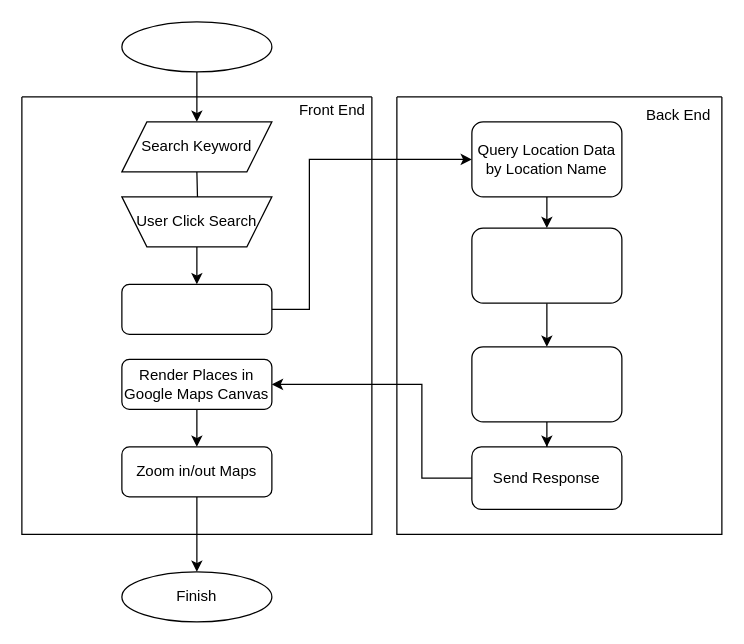
Some shapes in this 744 by 644 pixel diagram are drawn without their labels. The box of each missing label's shape, as (x1, y1, x2, y2) in pixels:
Calculate All Distances of Places with User Distance: (471, 227, 622, 303)
Filter Places with Distance < 500 KM: (471, 346, 622, 422)
Send Request: (121, 283, 272, 334)
Start: (121, 21, 272, 72)
